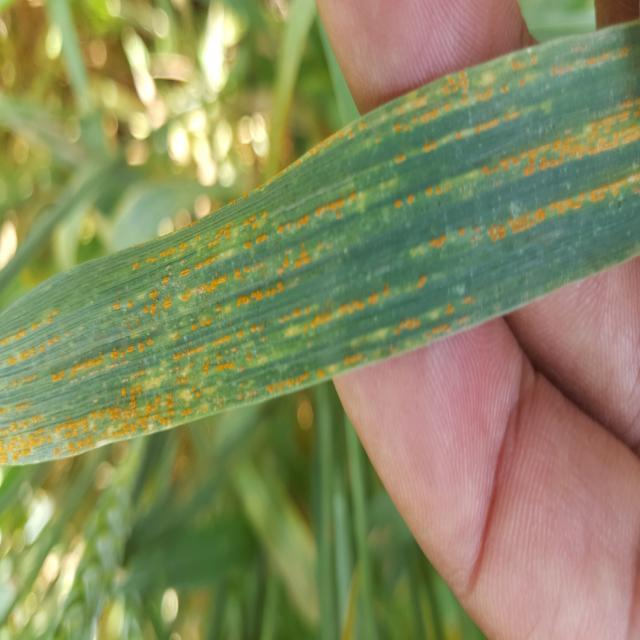wheat-yellowrust: (0, 19, 640, 473)
